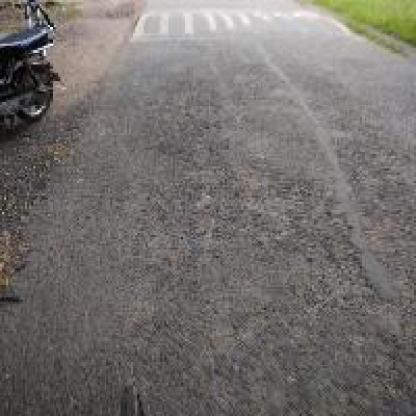Speed Bump: (138, 9, 320, 40)
